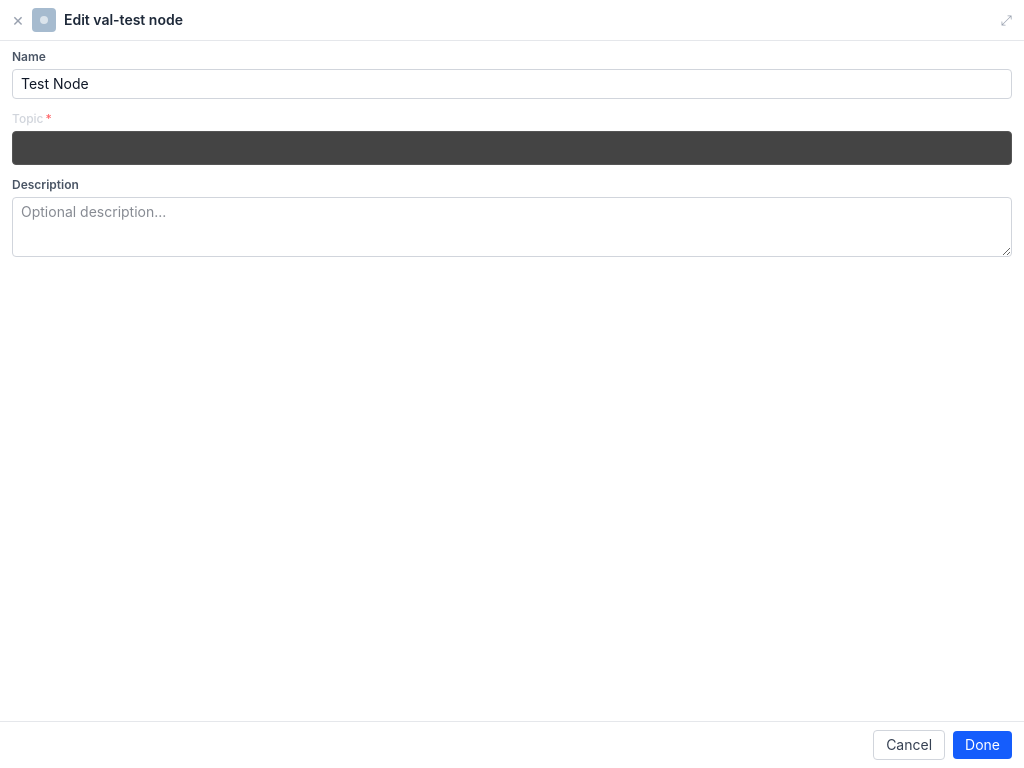
NodeEditorPanel › validation on save › prevents saving when required fields are empty
Note: Click Done with empty required field
What coordinates should you click on to do the following:
click the button with test id "node-editor-btn-done"
I would click on:
 (983, 745)
Its box is [953, 731, 1012, 759].
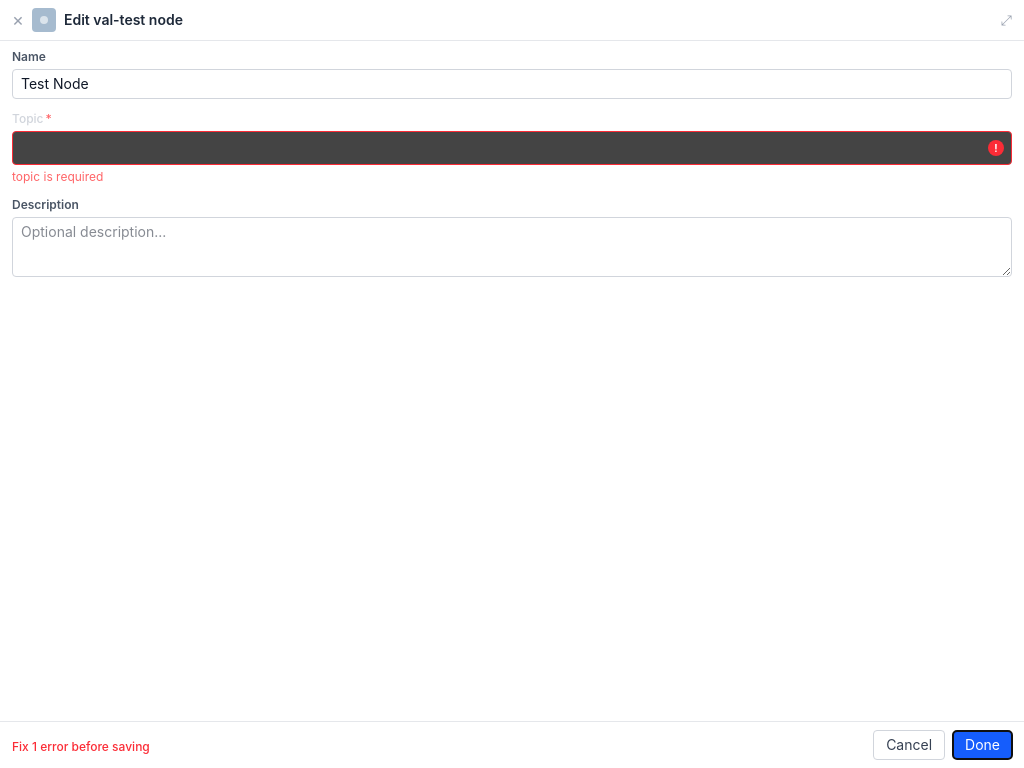
Expected: the text with test id "node-editor-error-count" reads "Fix 1 error before saving", [12, 739, 150, 754]
